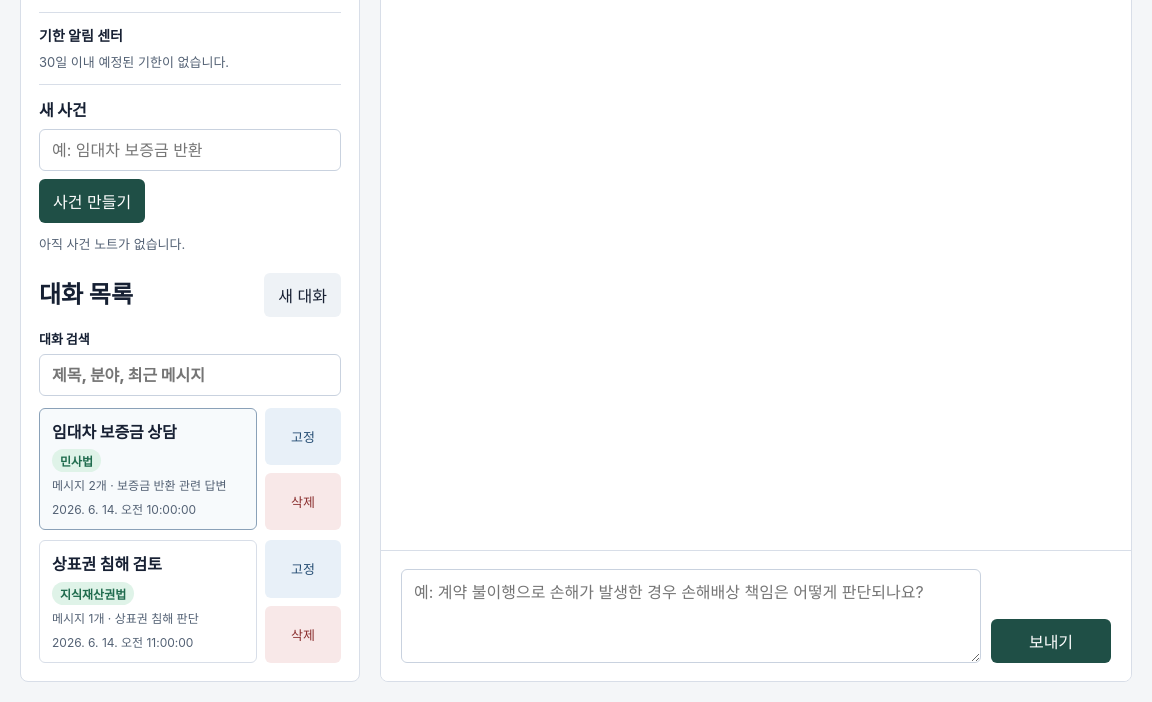
Test: App › filters and pins chat sessions
(page scrolled)
Check: the text "임대차 보증금 상담" is shown, box [52,421,177,443]
Check: the text "상표권 침해 검토" is shown, box [52,553,162,576]
In the search field labelled "대화 검색": (190, 375) [39,354,341,396], type "보증금"
(page scrolled)
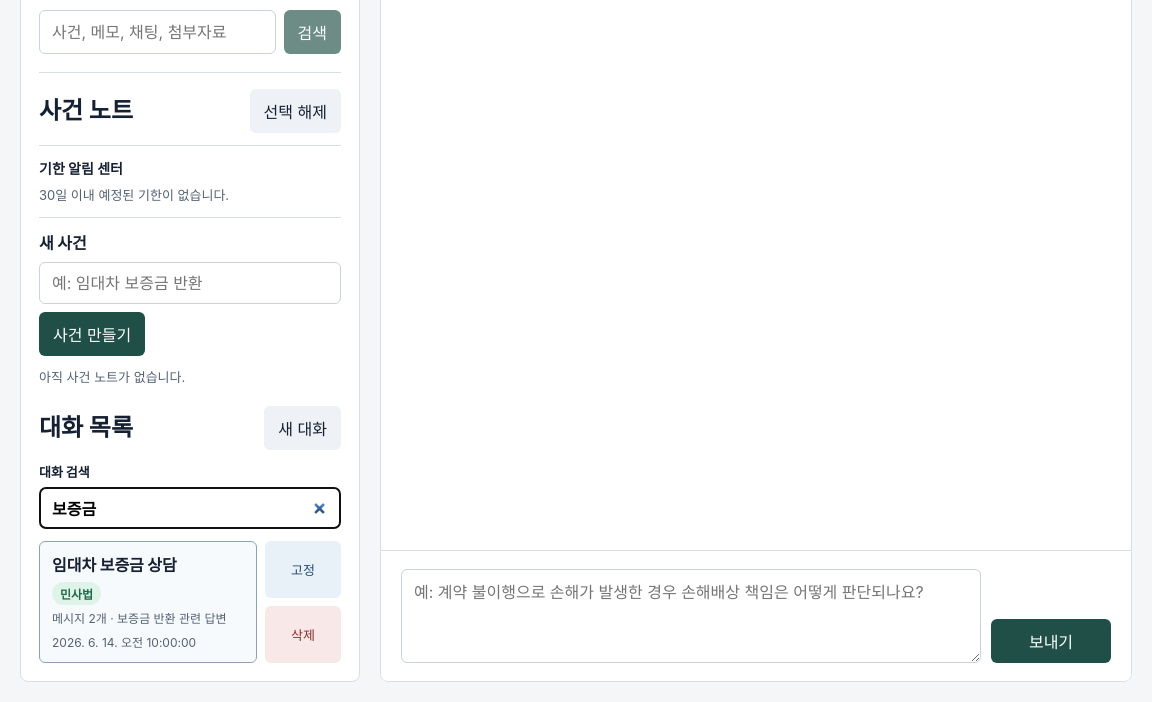
Check: the text "임대차 보증금 상담" is shown, box [52,554,177,576]
Check: the button "상표권 침해 검토" is gone
Click the button "고정": (303, 569) [265,541,341,598]
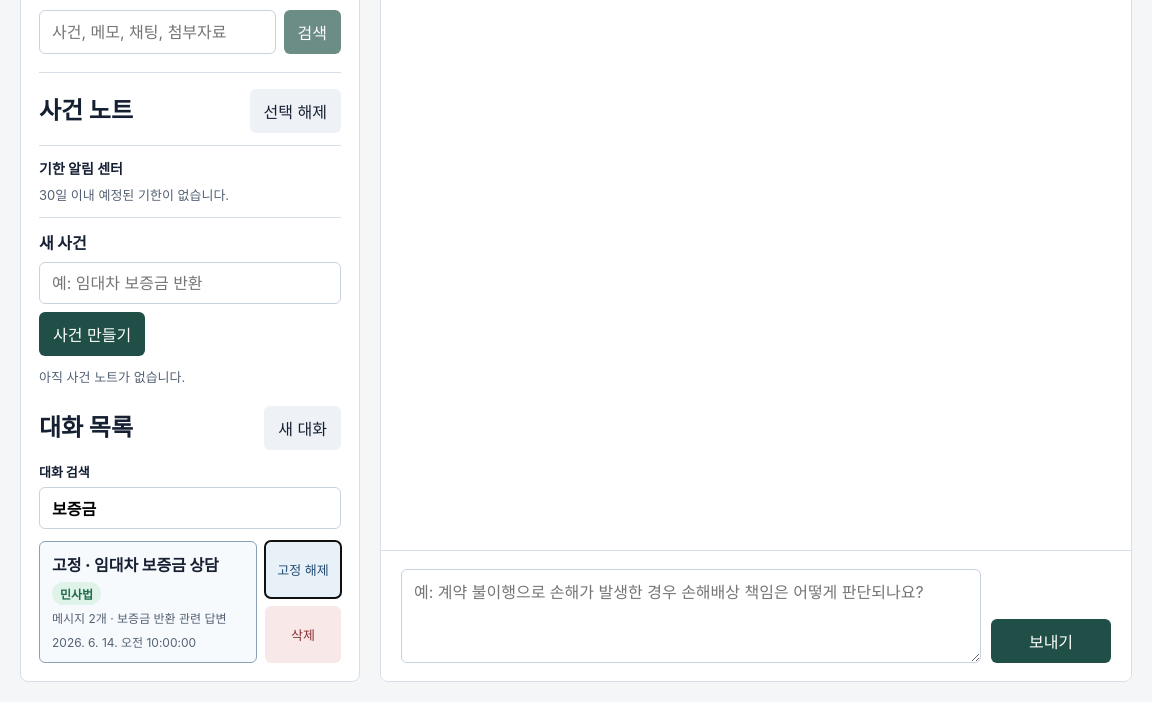
Check: the text "고정 · 임대차 보증금 상담" is shown, box [52,554,219,576]
